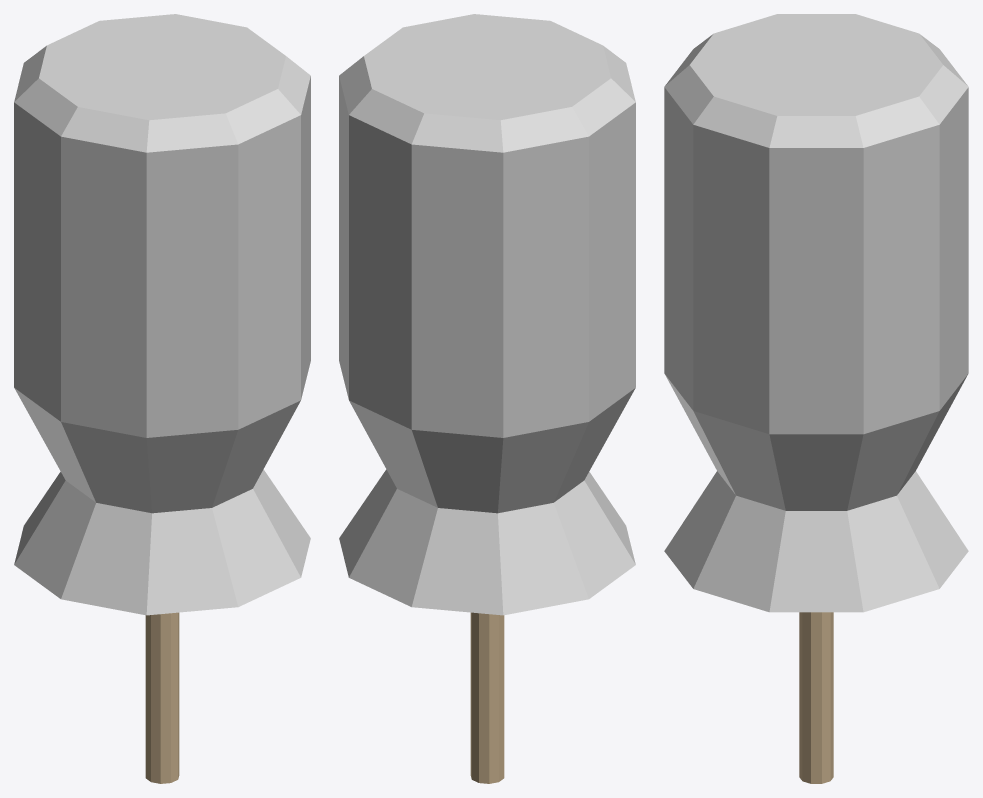
The model's file is dummy.glb.
3 views of the same model, side by side, from view 1: azimuth 30°, elevation 25°; view 2: azimuth 150°, elevation 25°; view 3: azimuth 270°, elevation 25° (orthographic).
Visible parts, largest first — view 1: Cylinder.001-col, Cylinder-col; view 2: Cylinder.001-col, Cylinder-col; view 3: Cylinder.001-col, Cylinder-col.
Boxes of the visible parts, <box> form: Cylinder.001-col: <box>14,14,310,615</box>; Cylinder-col: <box>145,612,179,783</box>; Cylinder.001-col: <box>339,14,635,615</box>; Cylinder-col: <box>470,612,504,783</box>; Cylinder.001-col: <box>664,14,968,612</box>; Cylinder-col: <box>799,612,833,783</box>.
Size of the model in its own units: 0.4527 by 1.23 by 0.476.
